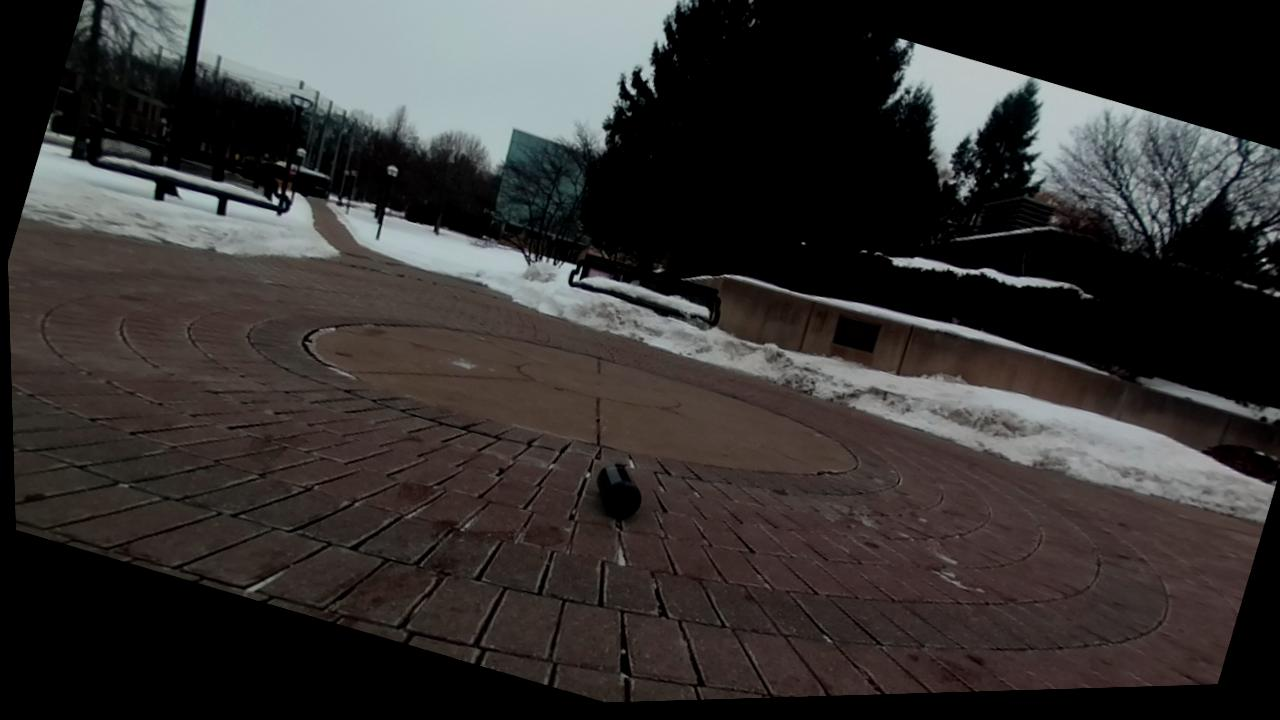bottle: (596, 465, 640, 518)
